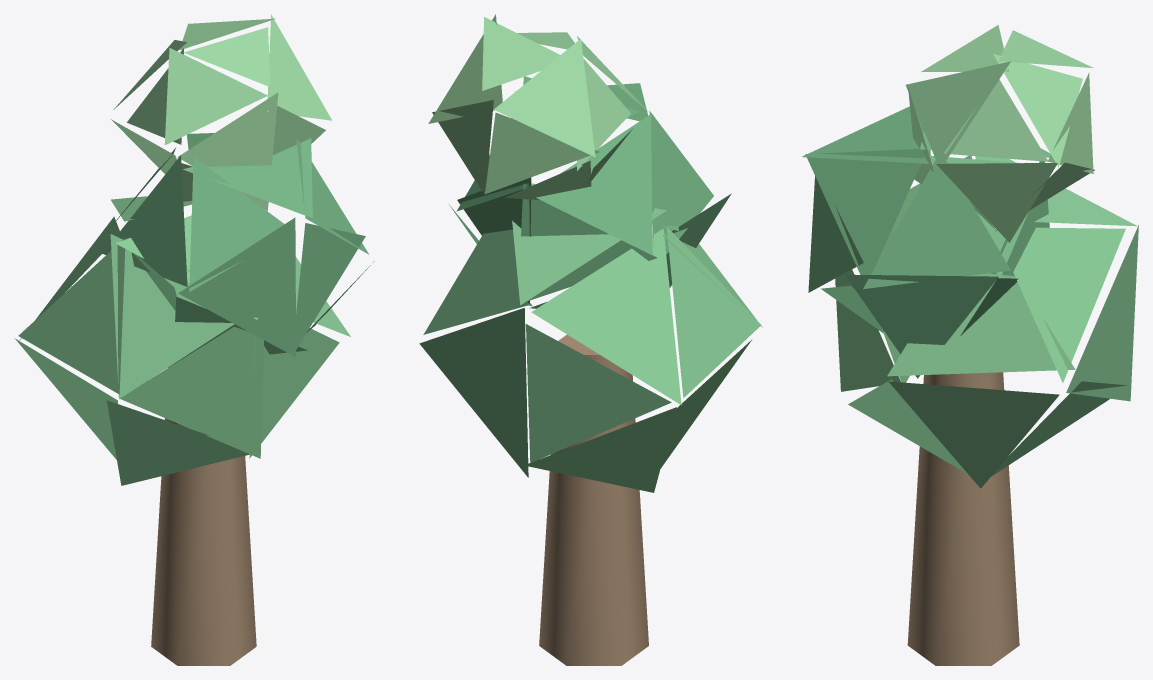
Rendered from tree_round_0.glb.
The picture shows the model from 3 angles, left to right: view 1: azimuth 30°, elevation 25°; view 2: azimuth 150°, elevation 25°; view 3: azimuth 270°, elevation 25°; orthographic projection. The views are drawn at different scales.
Parts seen in each view (by area): view 1: tree_round_0; view 2: tree_round_0; view 3: tree_round_0.
Boxes of the visible parts, x1,y1,x2,y2 form: tree_round_0: [14, 14, 374, 665]; tree_round_0: [419, 14, 762, 665]; tree_round_0: [802, 25, 1138, 665].
Bounding box in the file's own units: 1.04 × 2.25 × 1.09.
